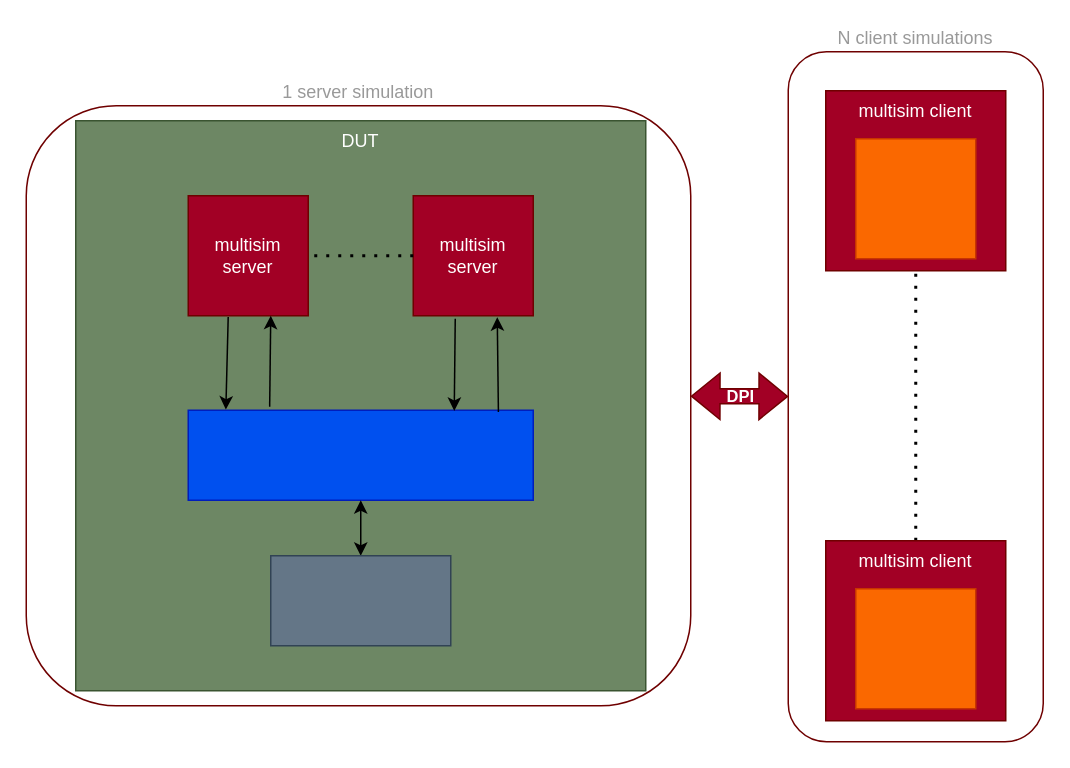
This 1070x768 diagram has some shape labels left out. Each missing label, with the centre of its shape:
"CPU 0" belongs at (915,198).
"CPU N-1" belongs at (915,648).
"DDR controller" belongs at (360,600).
"NOC" belongs at (360,454).
